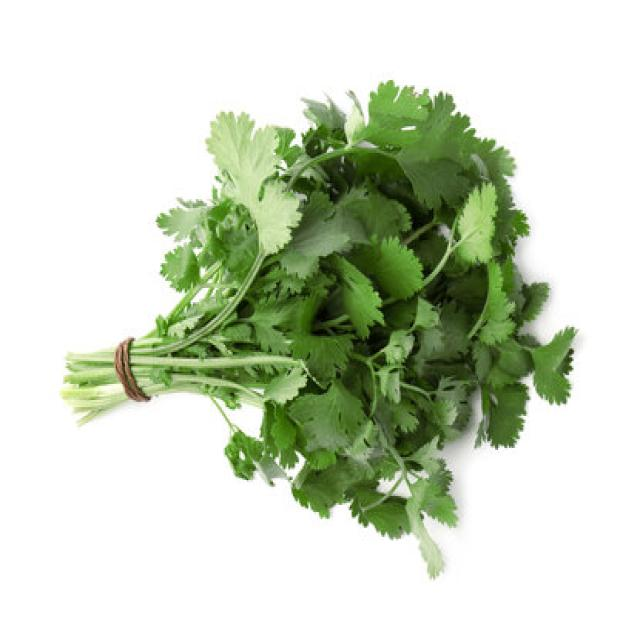Coriander Leaves: (59, 76, 578, 578)
